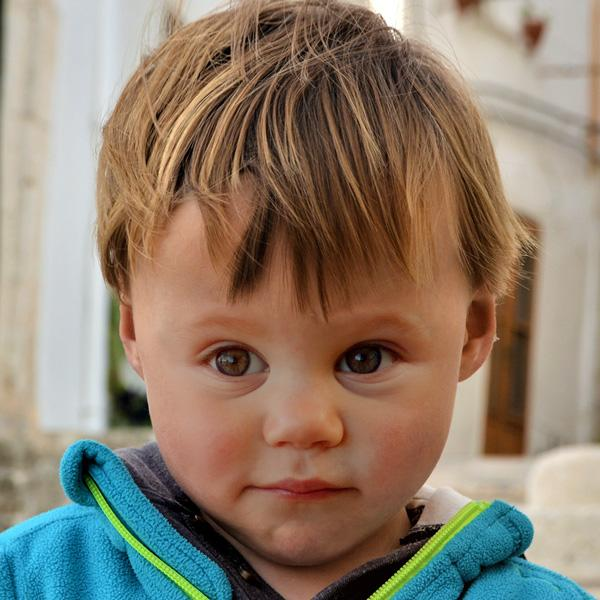Eyes: (324, 328, 420, 400), (184, 329, 279, 394)
